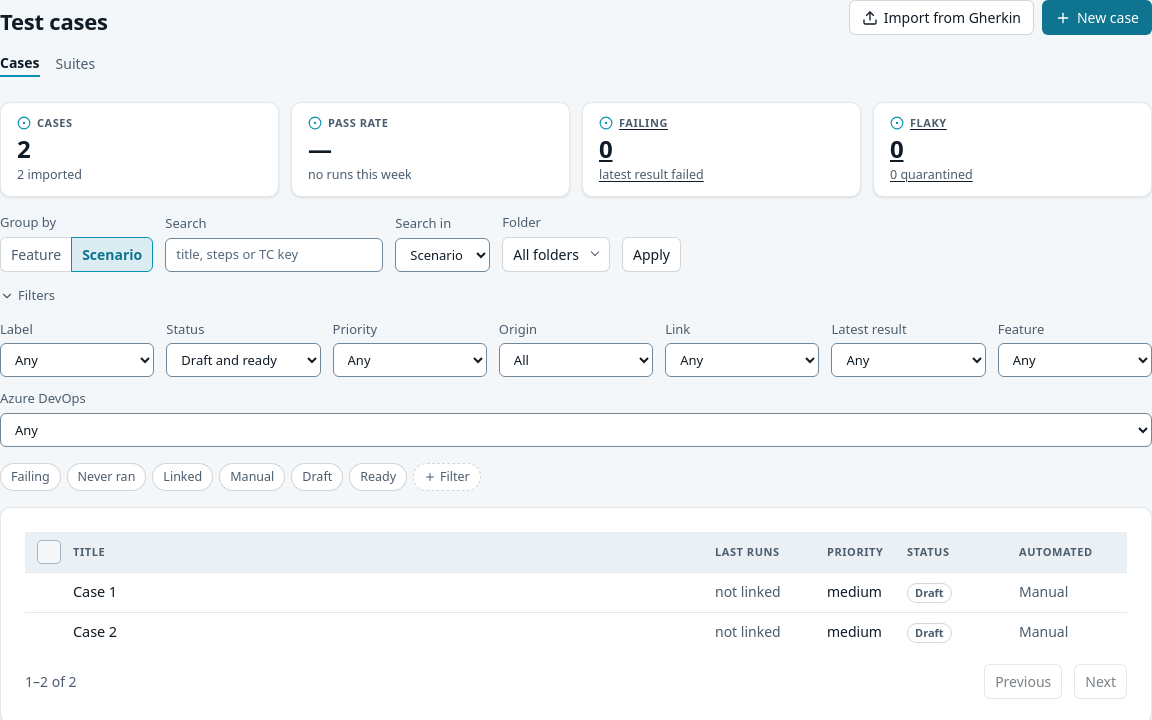
Test: Apply keeps the grouping
Expected: the link "Case 1" is shown, [73, 582, 117, 602]
Type "x" into the search field labelled "Search" at coordinates (274, 255), box [165, 238, 383, 272]
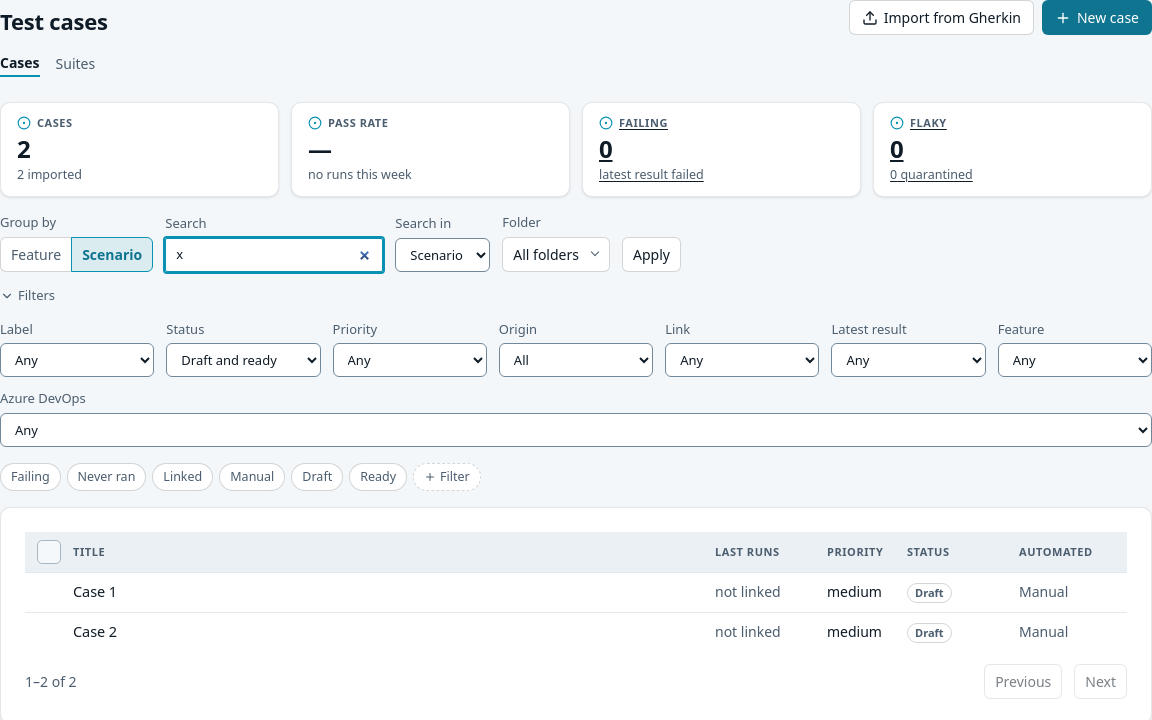
Click the button "Apply" at coordinates (651, 254), box [622, 237, 681, 272]
(page scrolled)
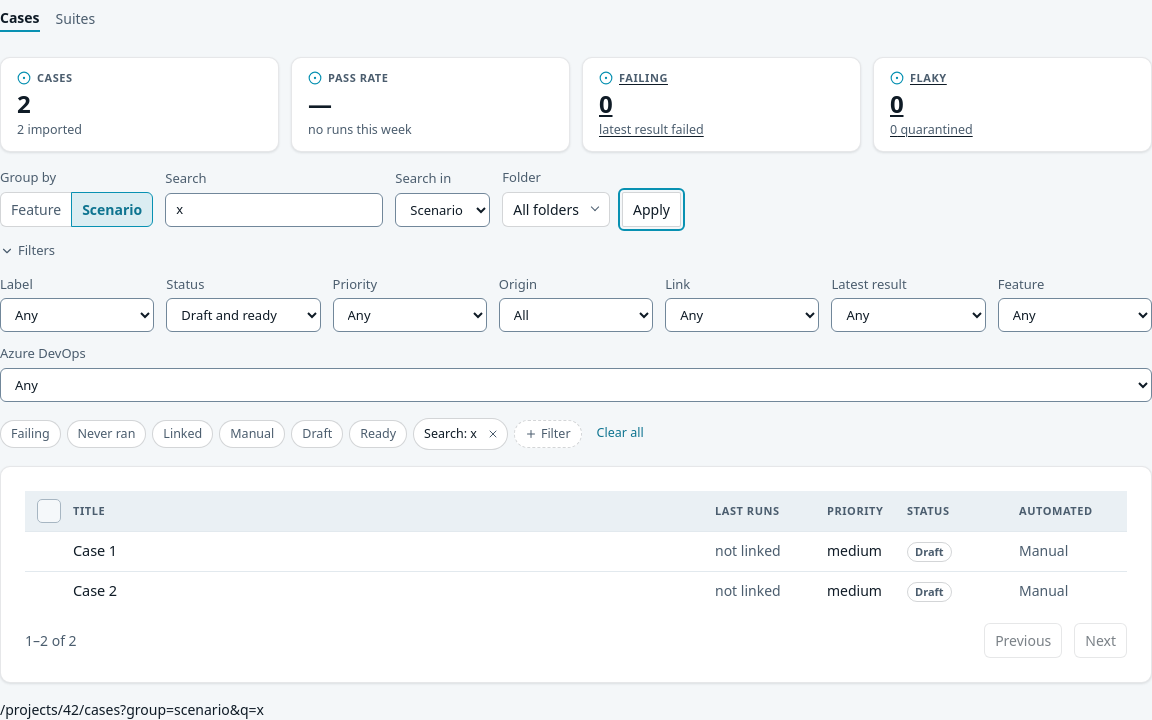
Expected: the text with test id "where" shows "group=scenario", [0, 700, 264, 719]
Now the text with test id "where" shows "q=x", box [0, 700, 264, 719]
